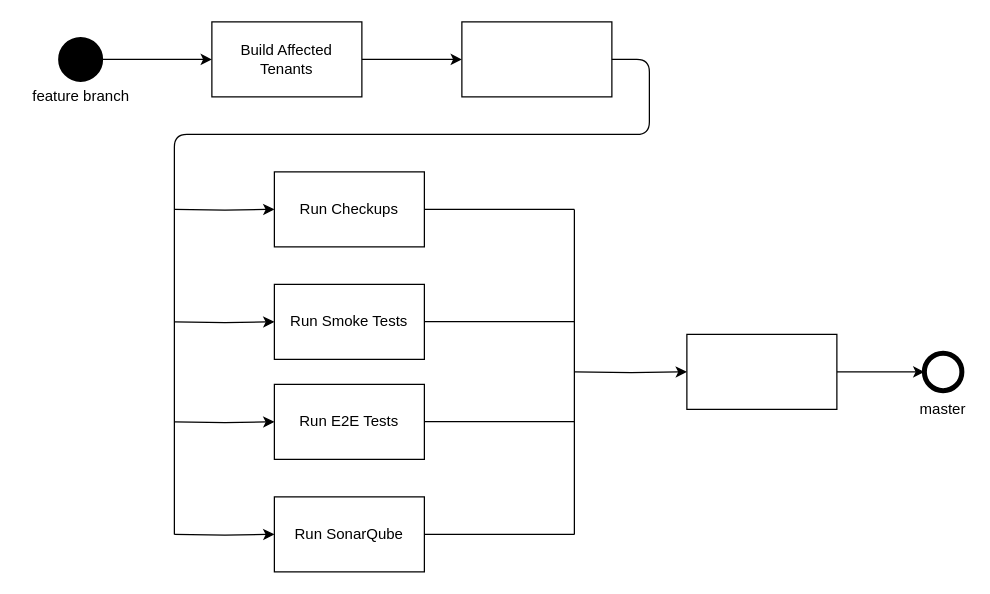
Some shapes in this 990 by 594 pixel diagram are drawn without their labels. The shapes that lost their labels are listed below. From the top down, each one's centre as x and y in pixels, then its label:
At (536,59): "Deploy Affected Tenants (Branch QA Environment)".
At (761,371): "Approves Merge Request".
